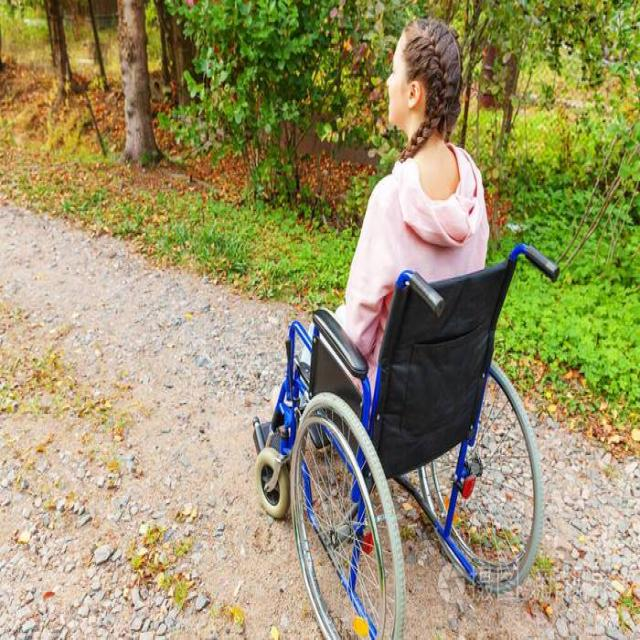wheelchairs: (232, 236, 575, 640)
